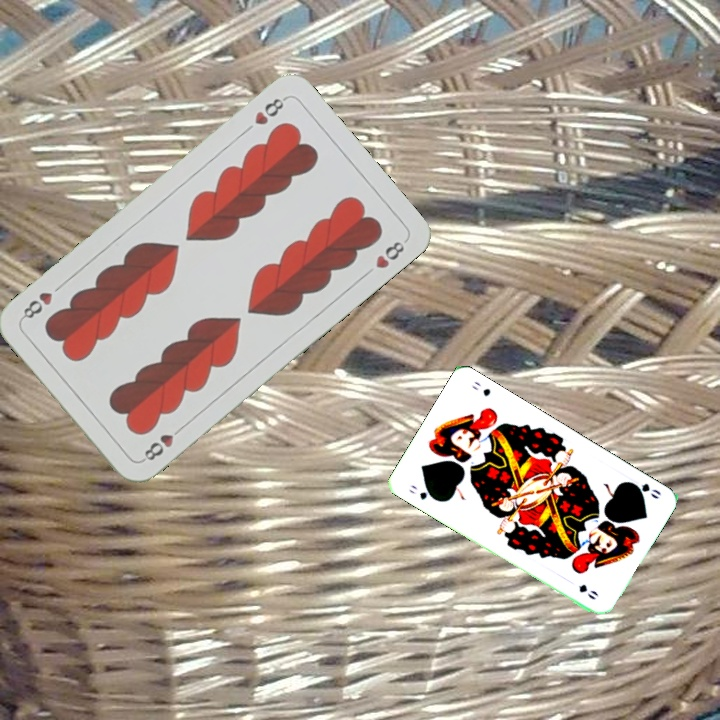GO: (625, 477, 664, 501), (405, 480, 440, 503)
H8: (137, 421, 187, 464), (250, 92, 289, 128)
